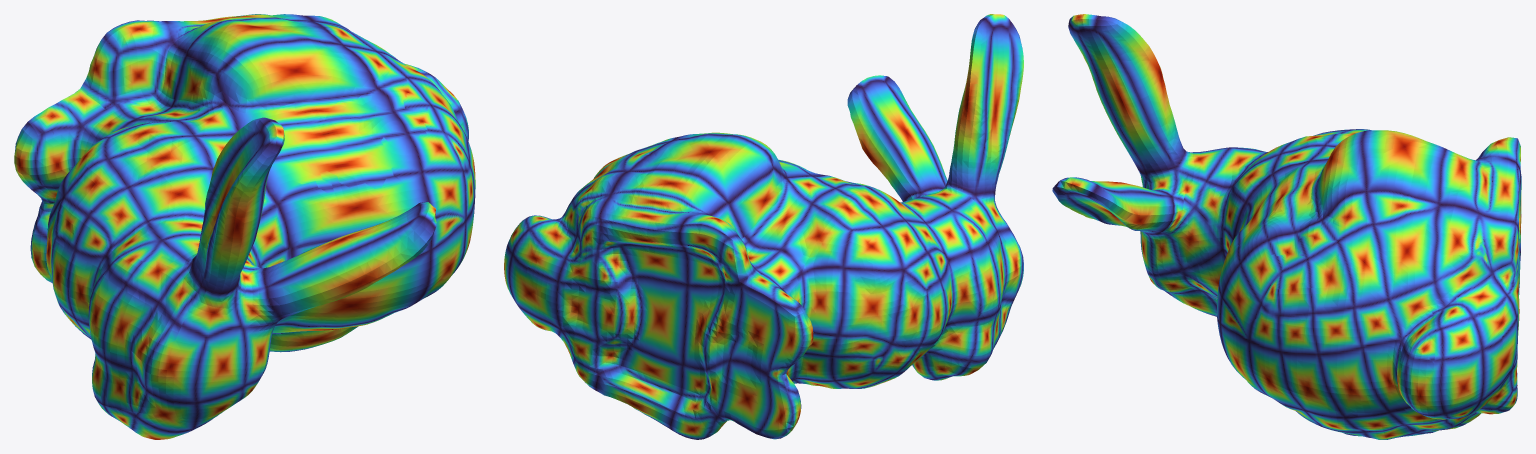
File: gen1.glb
3 views of the same model, side by side, from view 1: azimuth 30°, elevation 25°; view 2: azimuth 150°, elevation 25°; view 3: azimuth 270°, elevation 25° (orthographic). The views are drawn at different scales.
Parts seen in each view (by area): view 1: Node; view 2: Node; view 3: Node.
Boxes of the visible parts, left/top/right/bottom form: Node: left=14, top=14, right=475, bottom=439; Node: left=504, top=14, right=1023, bottom=439; Node: left=1052, top=14, right=1521, bottom=439.
Bounding box in the file's own units: 0.6266 × 0.4796 × 0.6102.
Materials: 1 (1 with a texture image).
